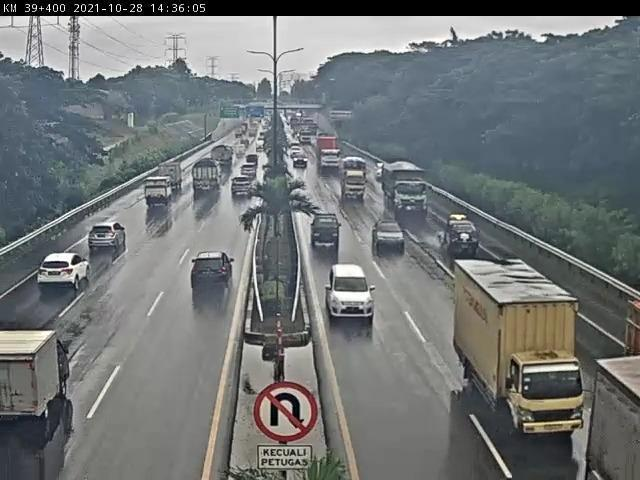car: (23, 259, 88, 305), (328, 253, 375, 313), (189, 250, 230, 292), (87, 222, 119, 269), (365, 214, 410, 246), (311, 202, 344, 245), (436, 211, 475, 247), (233, 180, 249, 200), (295, 153, 309, 173), (241, 168, 257, 183), (245, 154, 257, 162)
truck: (471, 252, 572, 419), (5, 325, 50, 426), (383, 166, 429, 214), (342, 171, 369, 204), (192, 161, 215, 198), (159, 163, 181, 197), (316, 142, 342, 170), (141, 184, 170, 207), (214, 142, 230, 172)
